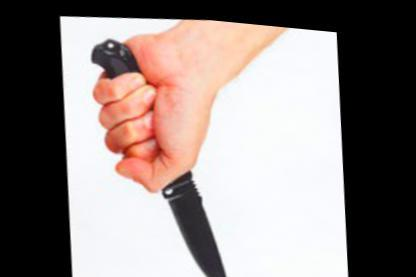knife: (107, 79, 247, 275)
